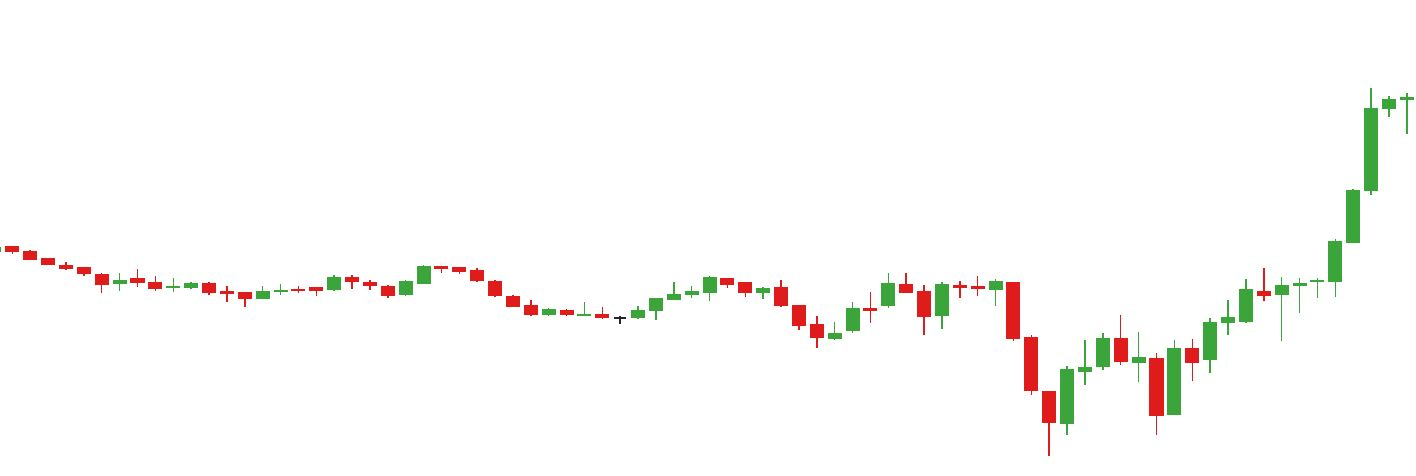sell: (771, 271, 916, 325)
